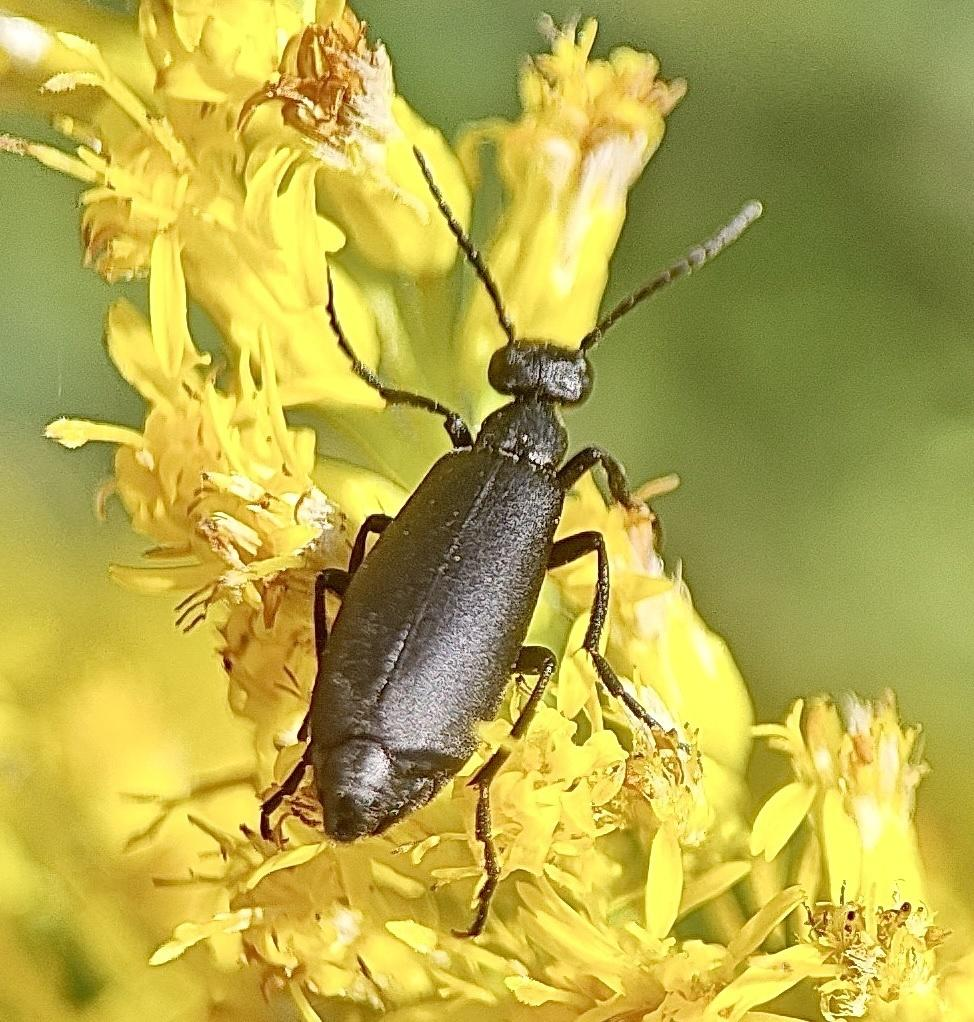blister_beetle: (202, 102, 801, 990)
